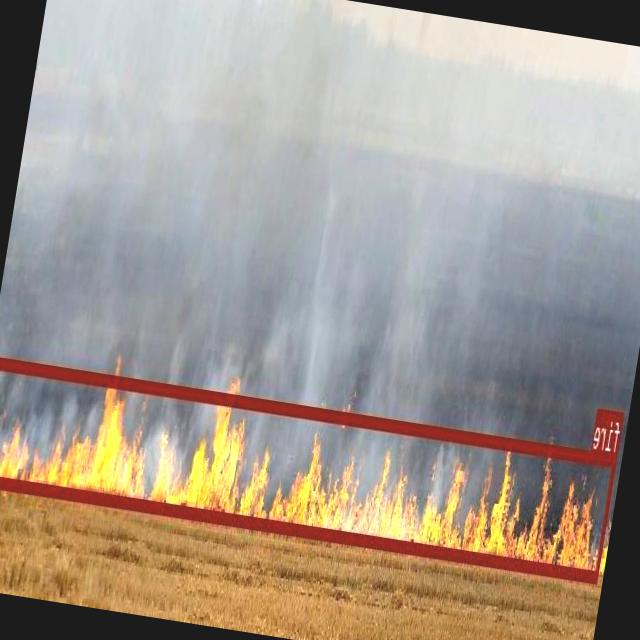fire: (0, 355, 618, 580)
